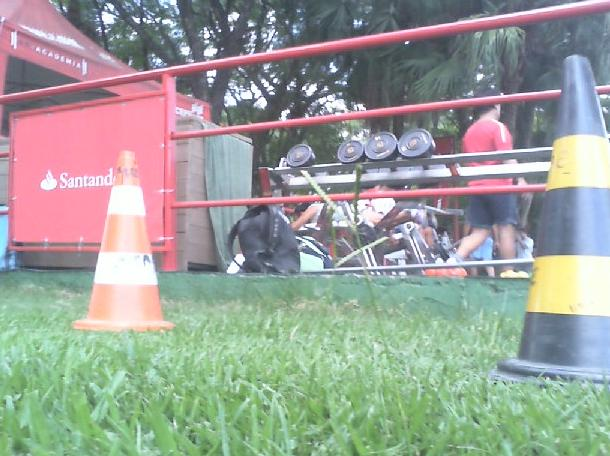0 cone: (487, 55, 610, 386), (71, 151, 173, 332)
